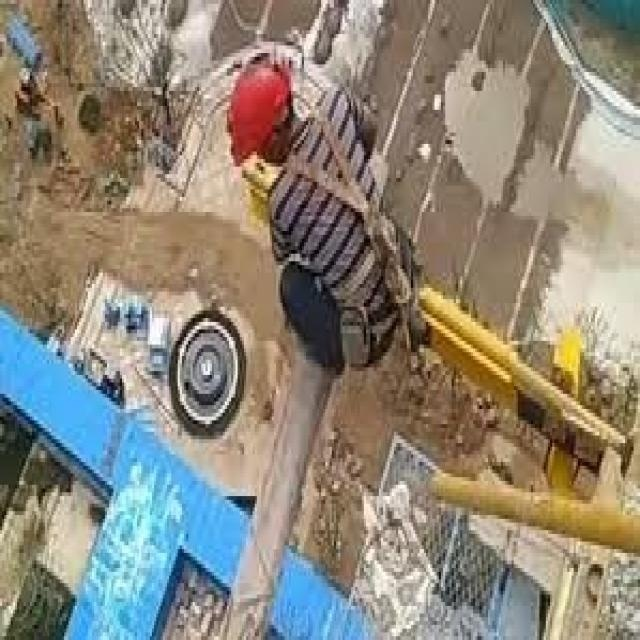Arnes_seguridad: (278, 98, 411, 307)
